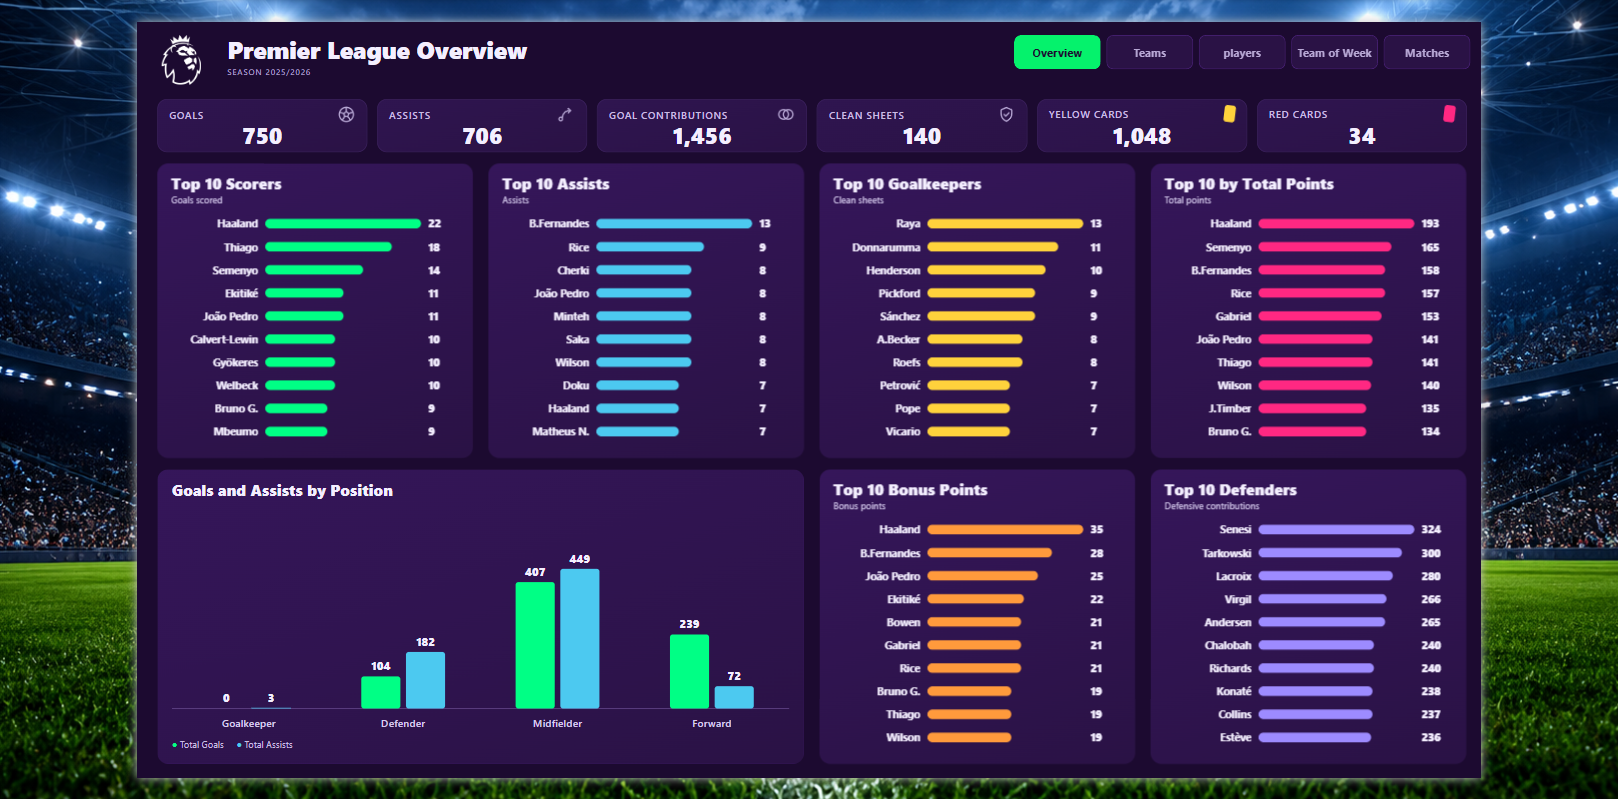

What the dashboard file says about the page in this screenshot:
{"tool":"powerbi","page":{"name":"Overview","canvas":[1920,1080],"ordinal":1},"visuals":[{"type":"htmlContent443BE3AD55E043BF878BED274D3A6855","fields":{"content":["Html.HTML Overview Page 3"]},"box":[0,0,1920,1080],"z":0},{"type":"pageNavigator","box":[1252.5,18.2,652,49],"z":1000},{"type":"image","box":[13.8,18.5,98.5,70.8],"z":2000}]}

Visuals, with their boxes on the page's 1920x1080 design canvas (x1, y1, x2, y2). These are canvas units, not pixel positions in the 1618x799 screenshot, which may show the page scaled, cropped or inside an application window:
htmlContent443BE3AD55E043BF878BED274D3A6855 - Html.HTML Overview Page 3: 0,0,1920,1080
pageNavigator: 1252,18,1904,67
image: 14,18,112,89
